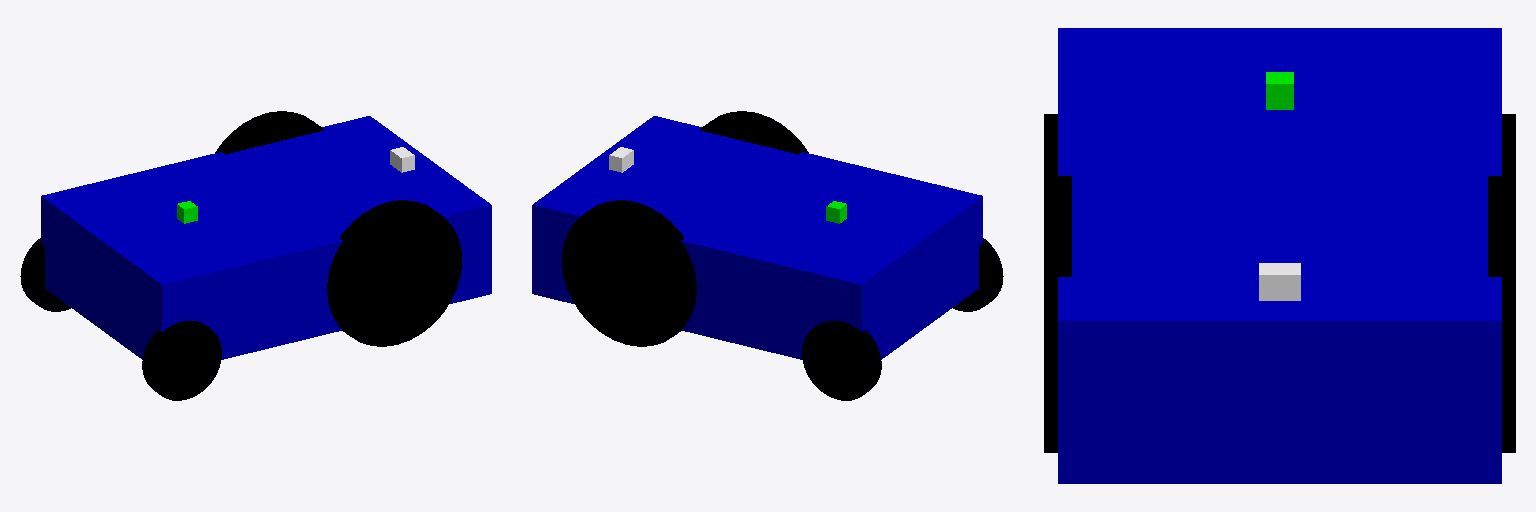
URDF robot description (XGyroCar):
<?xml version="1.0"?>  
<robot name="XGyroCar">  
  <link name="base_link">  
    <visual>  
      <geometry>  
        <box size="0.5 .32 .13"/>
    </geometry>  
    <origin rpy="0 0 0" xyz="-0.1 0 -0.05"/>   <!-- 1.57075 -->
    <material name="blue">
        <color rgba="0 0 .8 1"/> 
    </material>  
    </visual>  
 </link>  

 <joint name="gyro2base" type="fixed">
    <parent link="gyro"/>  
    <child link="base_link"/>
    <origin rpy="0 0 0" xyz="0.22 0 -0.021"/> <!-- 1.57075 -->
 </joint>  

 <link name="gyro">
    <visual>
      <geometry>  
        <box size=".02 .02 .03"/>  
      </geometry>  
      <material name="green">  
          <color rgba="0 1 0 1"/>  
      </material>
    </visual>  
 </link>  

  
 <link name="right_front_wheel">  
    <visual>  
      <geometry>  
        <cylinder length=".02" radius="0.1"/>
      </geometry>  
      <material name="black">  
        <color rgba="0 0 0 1"/>  
      </material>  
    </visual>  
  </link>  
  
  <joint name="right_front_wheel_joint" type="continuous">  
    <axis xyz="0 0 1"/>  
    <parent link="base_link"/>  
    <child link="right_front_wheel"/>  
    <origin rpy="0 1.57075 1.57075" xyz="0 0.16 -0.05"/>
    <limit effort="100" velocity="100"/>  
    <joint_properties damping="0.0" friction="0.0"/>  
  </joint>  
  
  <link name="right_back_wheel">  
    <visual>  
      <geometry>  
        <cylinder length=".02" radius="0.055"/>
      </geometry>  
      <material name="black">  
        <color rgba="0 0 0 1"/>  
      </material>  
    </visual>  
  </link>  
  
  <joint name="right_back_wheel_joint" type="continuous">  
    <axis xyz="0 0 1"/>  
    <parent link="base_link"/>  
    <child link="right_back_wheel"/>  
    <origin rpy="0 1.57075 1.57075" xyz="-0.32 0.16 -0.1"/>
    <limit effort="100" velocity="100"/>  
    <joint_properties damping="0.0" friction="0.0"/>  
 </joint>  
  
 <link name="left_front_wheel">  
    <visual>  
      <geometry>  
        <cylinder length=".02" radius="0.1"/>
      </geometry>  
      <material name="black">  
        <color rgba="0 0 0 1"/>  
      </material>  
    </visual>  
  </link>  
  
  <joint name="left_front_wheel_joint" type="continuous">  
    <axis xyz="0 0 1"/>  
    <parent link="base_link"/>  
    <child link="left_front_wheel"/>  
    <origin rpy="0 1.57075 1.57075" xyz="0 -0.16 -0.05"/>
    <limit effort="100" velocity="100"/>  
    <joint_properties damping="0.0" friction="0.0"/>  
  </joint>  
  
  <link name="left_back_wheel">  
    <visual>  
      <geometry>  
        <cylinder length=".02" radius="0.055"/>
      </geometry>  
      <material name="black">  
        <color rgba="0 0 0 1"/>  
      </material>  
    </visual>  
  </link>  
  
  <joint name="left_back_wheel_joint" type="continuous">  
    <axis xyz="0 0 1"/>  
    <parent link="base_link"/>  
    <child link="left_back_wheel"/>  
    <origin rpy="0 1.57075 1.57075" xyz="-0.32 -0.16 -0.1"/>
    <limit effort="100" velocity="100"/>  
    <joint_properties damping="0.0" friction="0.0"/>  
  </joint>  
  
  <link name="laser">
    <visual>
      <geometry>  
        <box size=".02 .03 .03"/>  
      </geometry>  
      <material name="white">  
          <color rgba="1 1 1 1"/>  
      </material>  
    </visual>  
  </link>  
  
  <joint name="lidar" type="fixed">
    <parent link="base_link"/>  
    <child link="laser"/>
    <origin rpy="0 0 0" xyz="0.107 0 0.021"/> <!-- 1.57075 -->
  </joint>  


</robot>

--- Render facts (derived) ---
3 views of the same robot in one strip: view 1: azimuth 30°, elevation 25°; view 2: azimuth 150°, elevation 25°; view 3: azimuth 270°, elevation 25° (orthographic).
Robot: XGyroCar — 7 links, 6 joints (4 continuous, 2 fixed); root link gyro; default pose: all joints at 0.
Links seen in each view (by area): view 1: base_link, left_front_wheel, left_back_wheel, right_front_wheel, right_back_wheel; view 2: base_link, right_front_wheel, right_back_wheel, left_front_wheel, left_back_wheel; view 3: base_link, right_front_wheel, left_front_wheel, laser, gyro, right_back_wheel, left_back_wheel.
Boxes of the visible links, x1=… form: base_link: x1=41, y1=116, x2=491, y2=359; left_front_wheel: x1=327, y1=200, x2=461, y2=346; left_back_wheel: x1=142, y1=320, x2=221, y2=400; right_front_wheel: x1=215, y1=111, x2=323, y2=154; right_back_wheel: x1=20, y1=238, x2=70, y2=311; base_link: x1=532, y1=116, x2=982, y2=359; right_front_wheel: x1=562, y1=200, x2=696, y2=346; right_back_wheel: x1=802, y1=320, x2=881, y2=400; left_front_wheel: x1=700, y1=111, x2=808, y2=154; left_back_wheel: x1=953, y1=238, x2=1003, y2=311; base_link: x1=1058, y1=28, x2=1501, y2=483; right_front_wheel: x1=1488, y1=176, x2=1515, y2=452; left_front_wheel: x1=1044, y1=176, x2=1071, y2=452; laser: x1=1259, y1=263, x2=1300, y2=300; gyro: x1=1266, y1=72, x2=1293, y2=109; right_back_wheel: x1=1502, y1=114, x2=1515, y2=175; left_back_wheel: x1=1044, y1=114, x2=1057, y2=175.
Bounding box of the posed robot: 0.525 × 0.34 × 0.205 m (x, y, z).
Geometry: primitives only (box / cylinder / sphere), no mesh files.